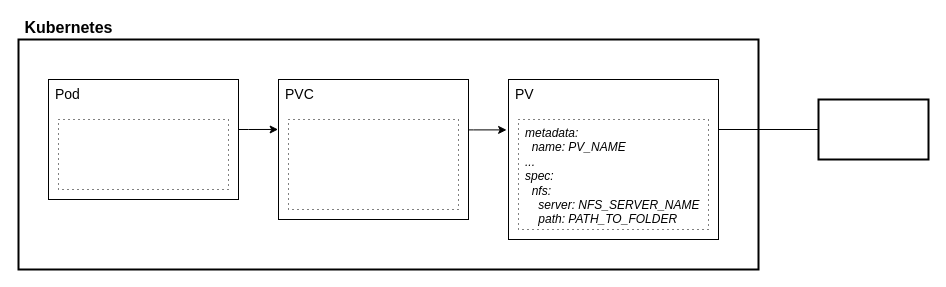
This 946x287 diagram has some shape labels left out. Each missing label, with the centre of its shape:
"metadata: name: PVC_NAME ... spec: volumeName: PV_NAME" goes at (x=373, y=164).
"NFS Server" goes at (x=873, y=129).
"volumes: - name: ... persistentVolumeClaim: claimName: PVC_NAME" goes at (x=143, y=154).
